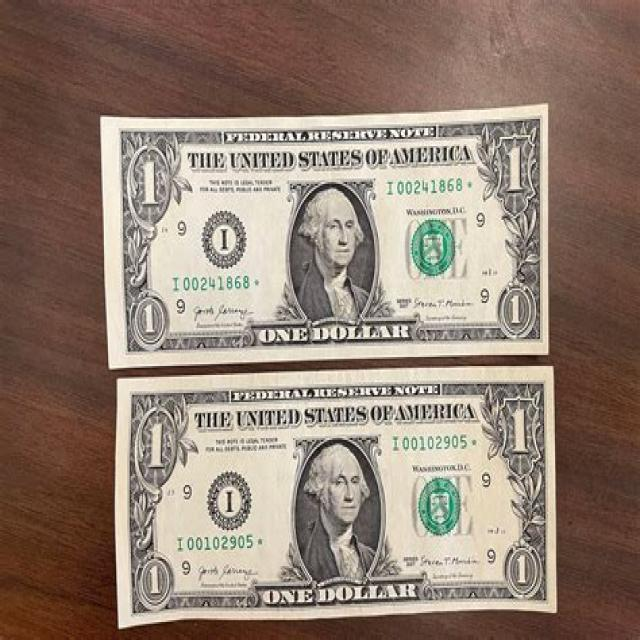One: (102, 104, 550, 368), (113, 368, 556, 628)
